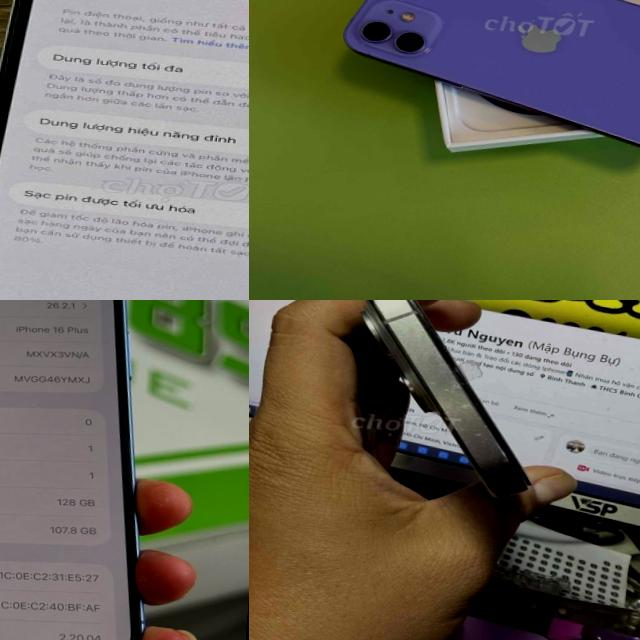scratch: (437, 401, 518, 488), (418, 354, 471, 406), (364, 300, 440, 325)
